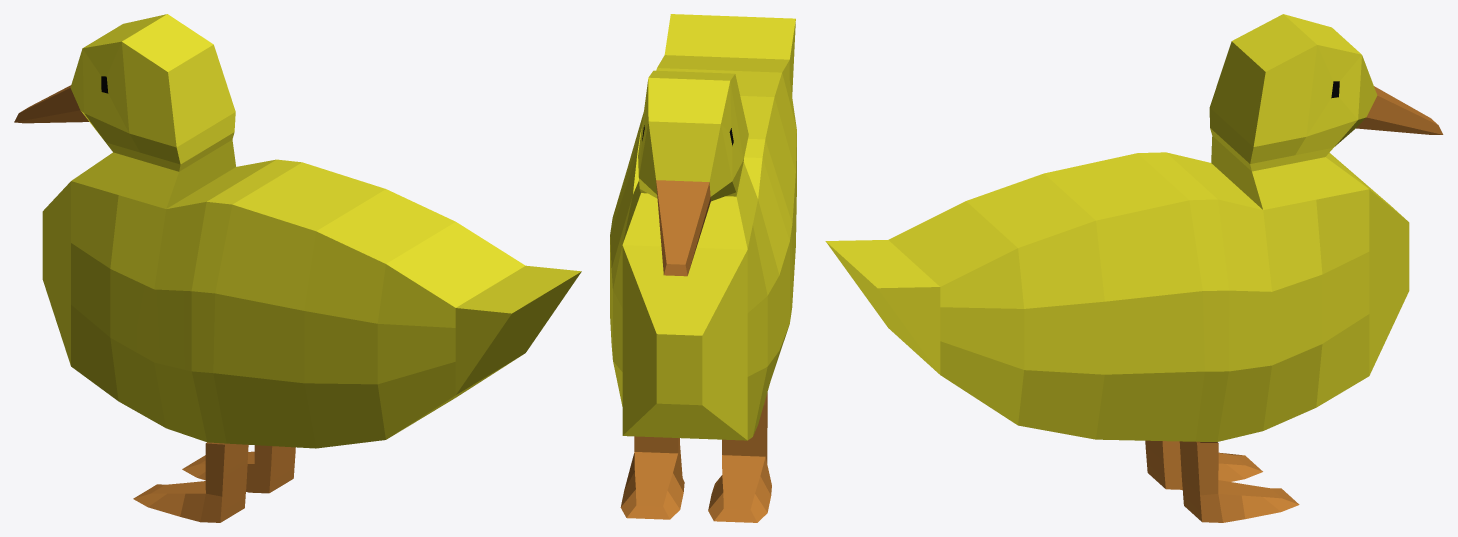
Rendered from DuckYellow.fbx.
3 renders of one model, left to right at view 1: azimuth 30°, elevation 25°; view 2: azimuth 150°, elevation 25°; view 3: azimuth 270°, elevation 25°, orthographic. The views are drawn at different scales.
Visible parts, largest first — view 1: Cube; view 2: Cube; view 3: Cube.
Boxes of the visible parts, bbox=[...] form: Cube: bbox=[14, 14, 581, 522]; Cube: bbox=[610, 14, 796, 522]; Cube: bbox=[825, 14, 1443, 522].
Bounding box in the file's own units: 139 × 200 × 252.
